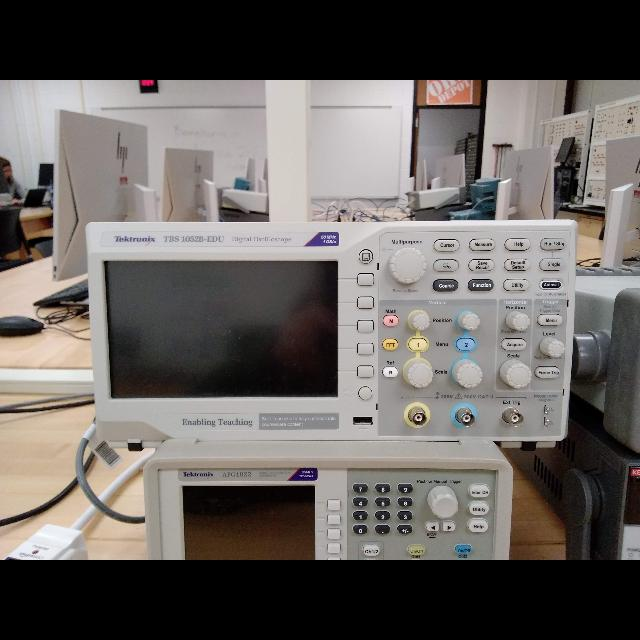Digital-Oscilloscope: (87, 221, 574, 443)
